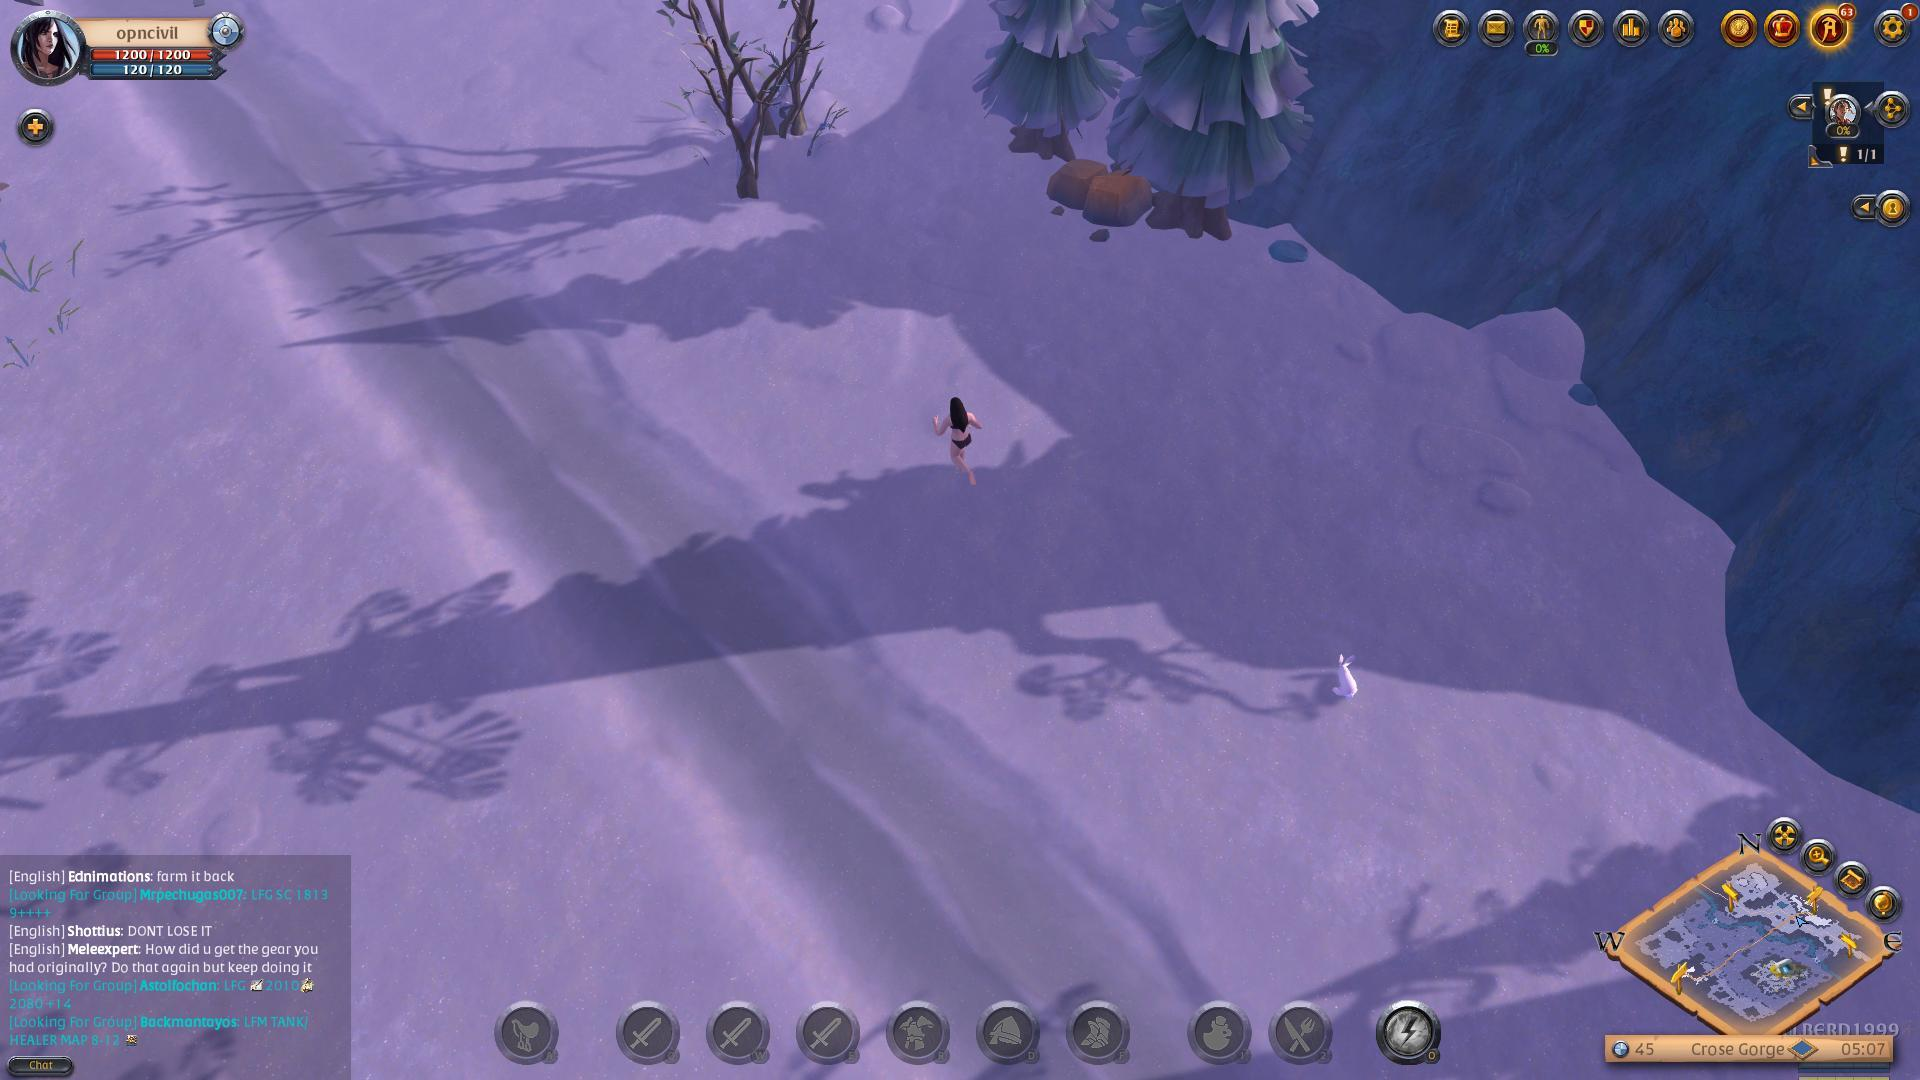limestone: (1042, 149, 1159, 245)
